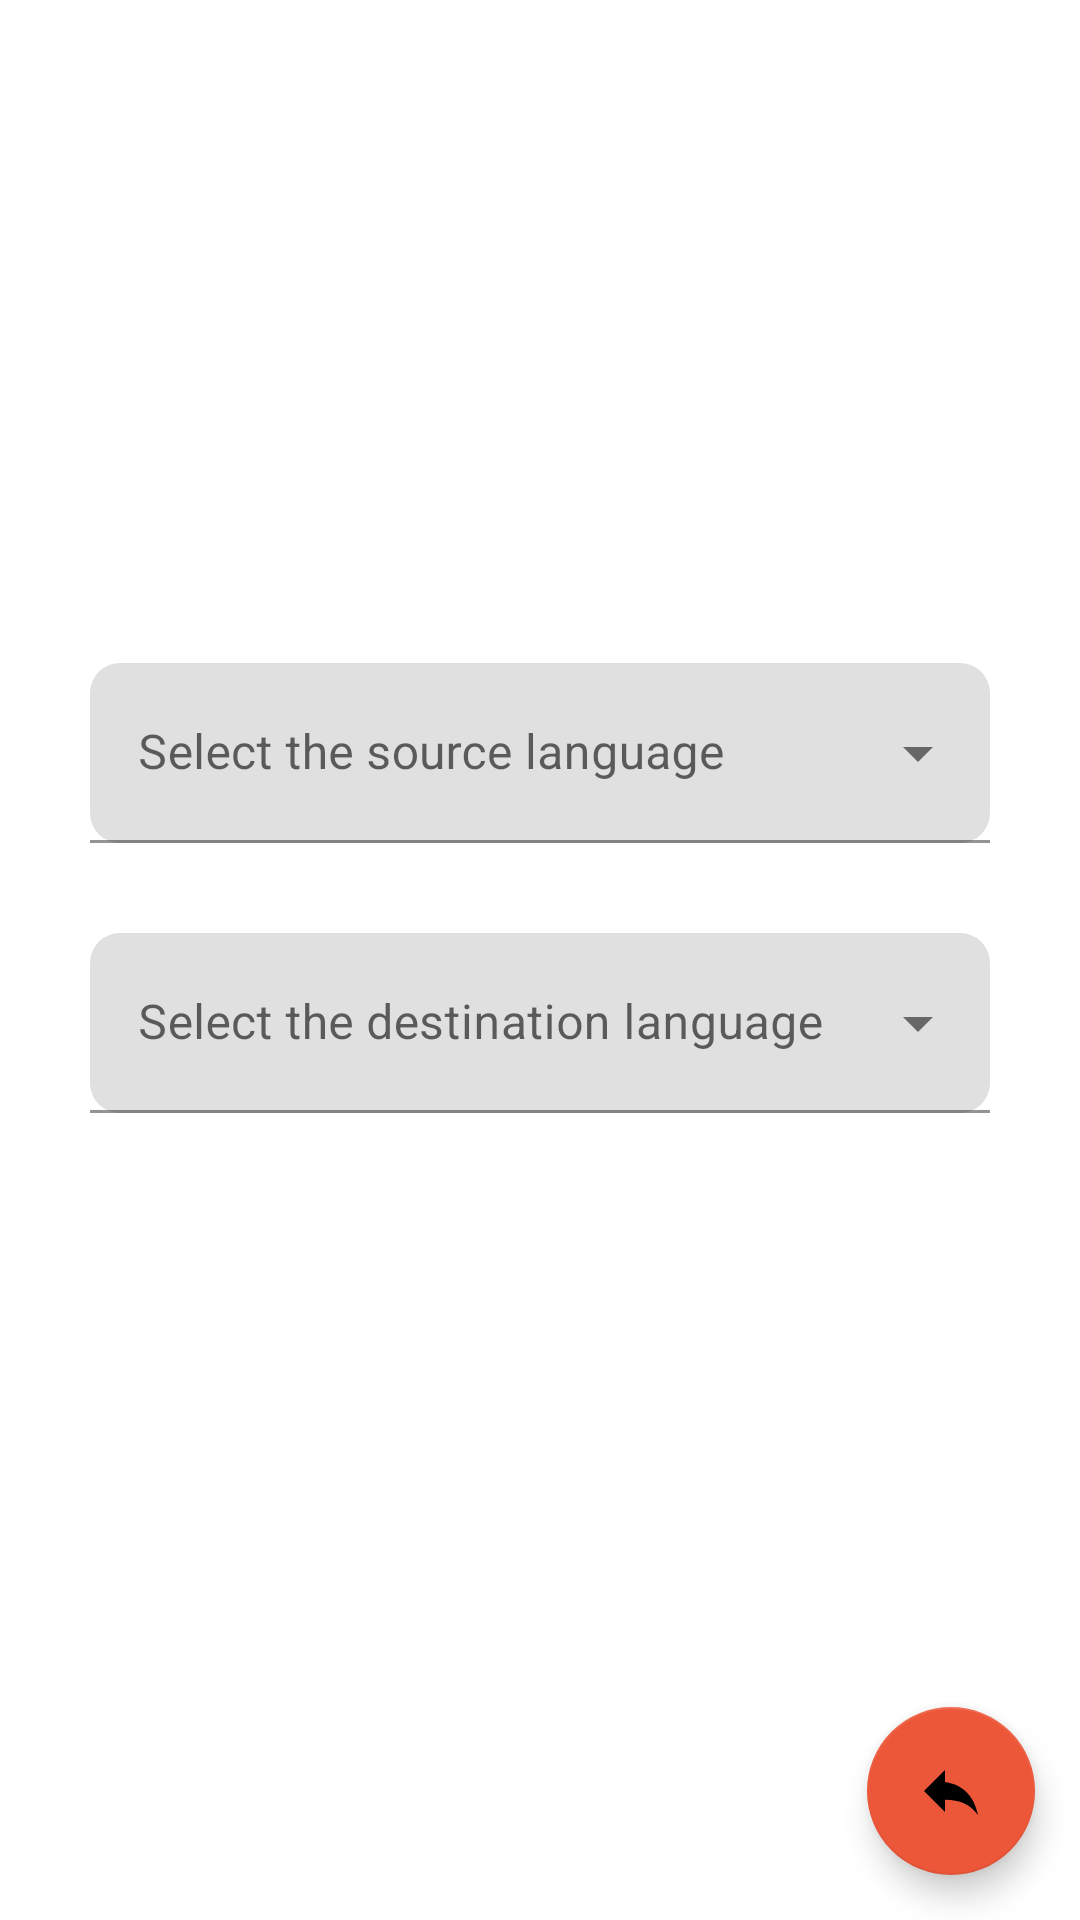

Where to tap for icons on this 1080 x 1920 app screen, as [x,y]:
back: [951,1791]
